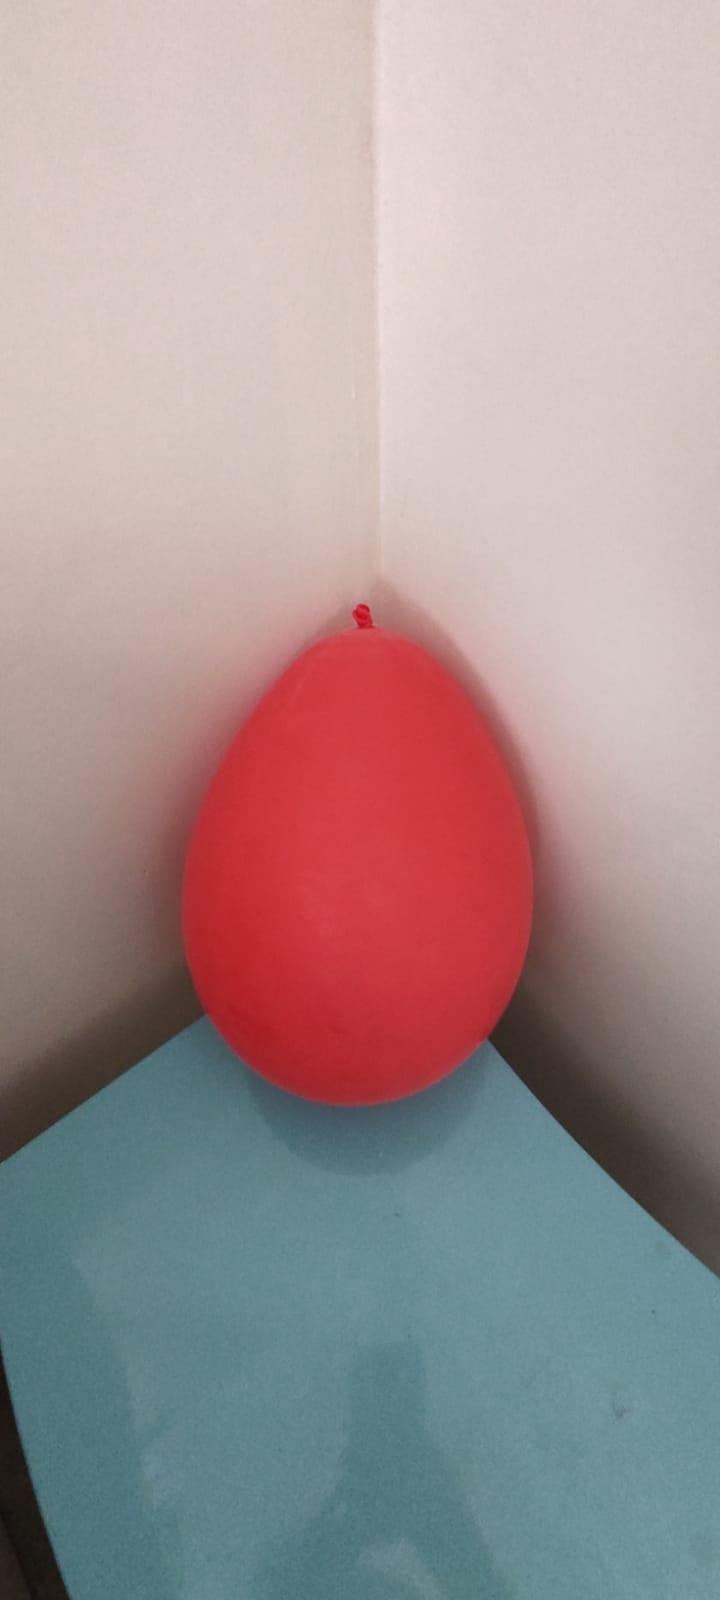red: (177, 594, 536, 1114)
